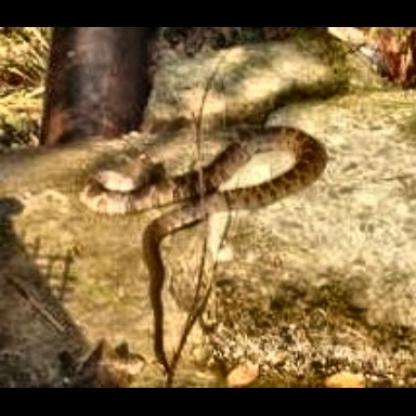Snake: (6, 38, 416, 380)
